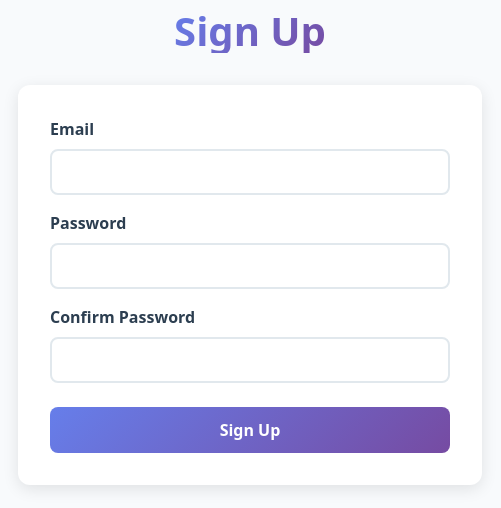
SignUpPage › shows success indicator when passwords match
Type "password123" into the password field labelled "Password" at (250, 266), box [50, 243, 450, 289]
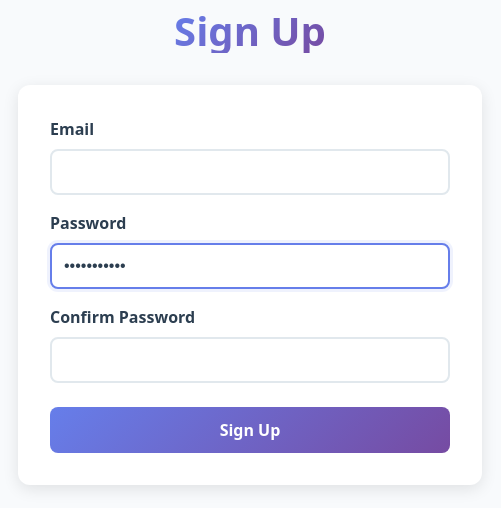
Type "password123" into the password field labelled "Confirm Password" at (250, 360), box [50, 337, 450, 383]
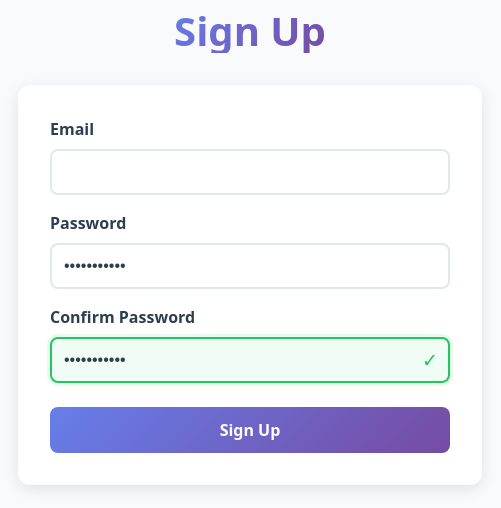
Expected: the text "✓" is shown, [422, 346, 438, 375]
